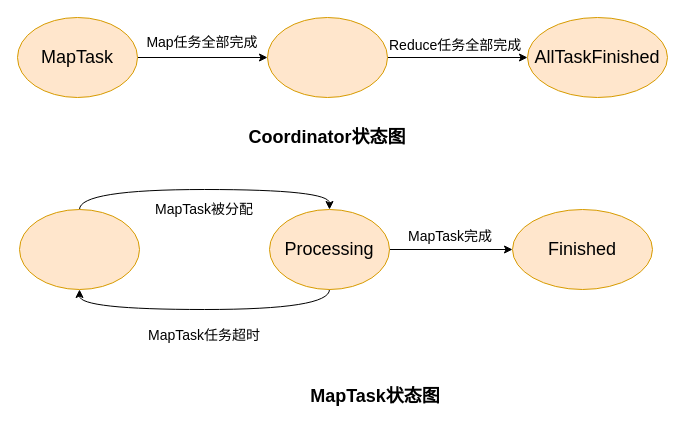
Some shapes in this 685 by 433 pixel diagram are drawn without their labels. The shapes that lost their labels are listed below. From the top down, each one's centre as x and y in pixels, then its label:
(x=327, y=57): ReduceTask
(x=79, y=249): Ready
